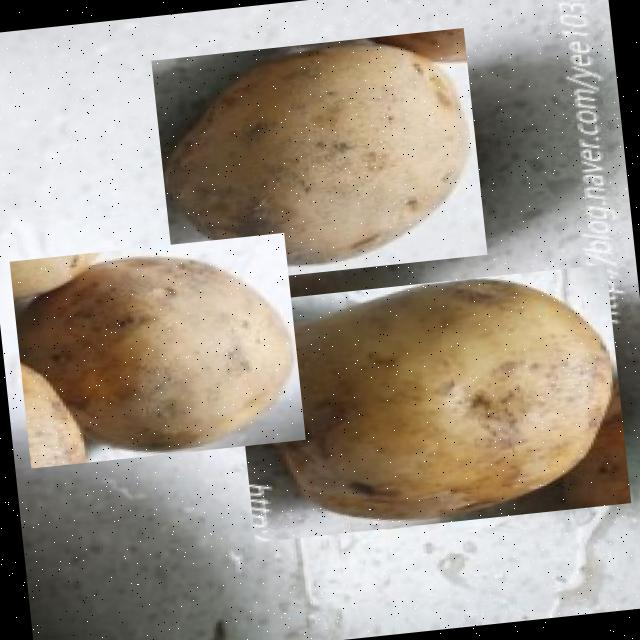Potato: (229, 264, 630, 542), (150, 28, 486, 288), (8, 232, 304, 468)
